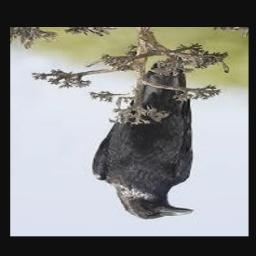Crow: (93, 55, 194, 219)
